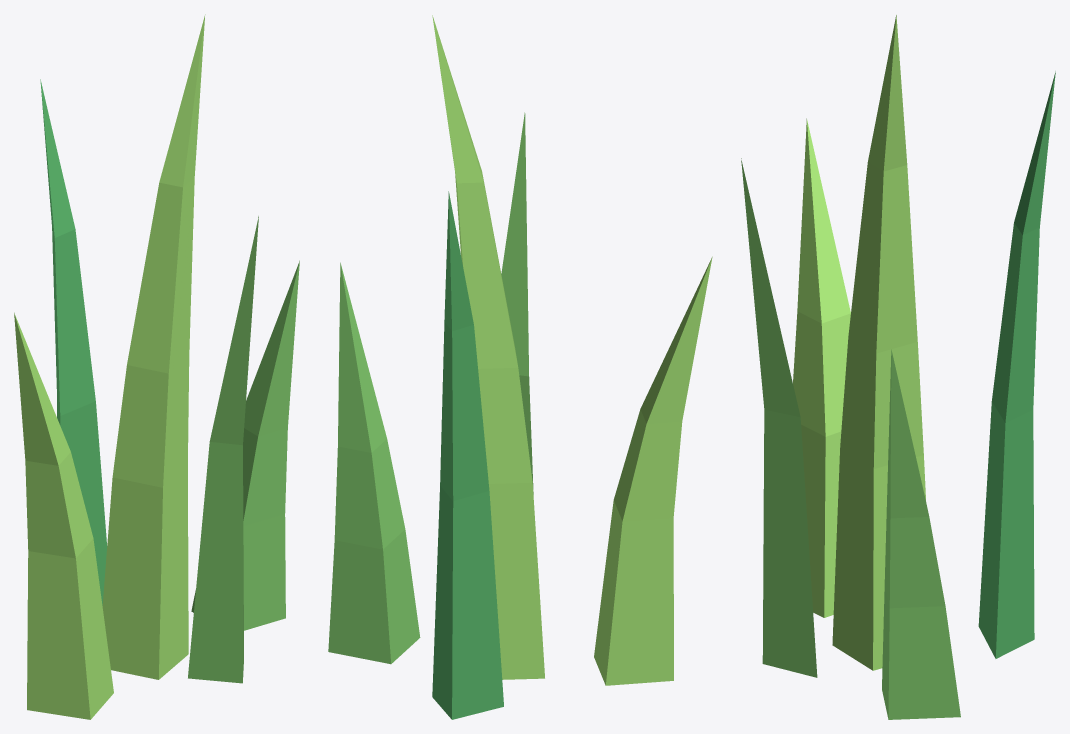
The model's file is Grass_2.fbx.
The picture shows the model from 3 angles, left to right: view 1: azimuth 30°, elevation 25°; view 2: azimuth 150°, elevation 25°; view 3: azimuth 270°, elevation 25°; orthographic projection. The views are drawn at different scales.
Parts seen in each view (by area): view 1: Grass_2; view 2: Grass_2; view 3: Grass_2.
Part boxes in pixels (bbox=[...]): Grass_2: bbox=[14, 14, 299, 719]; Grass_2: bbox=[328, 15, 712, 719]; Grass_2: bbox=[741, 15, 1055, 719].
Bounding box in the file's own units: 30.57 × 56.19 × 23.89.
